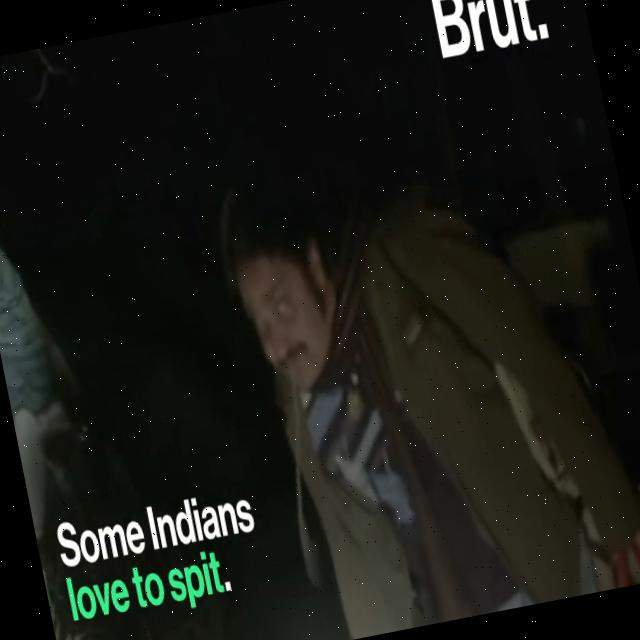spit: (241, 255, 359, 615)
